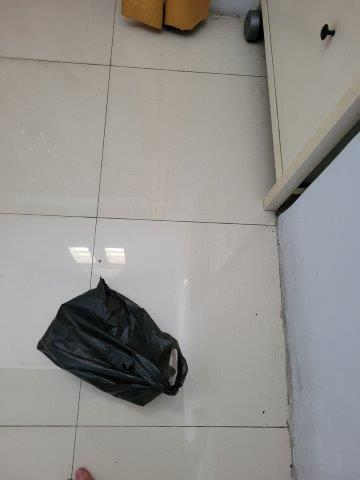plastik: (36, 279, 187, 409)
